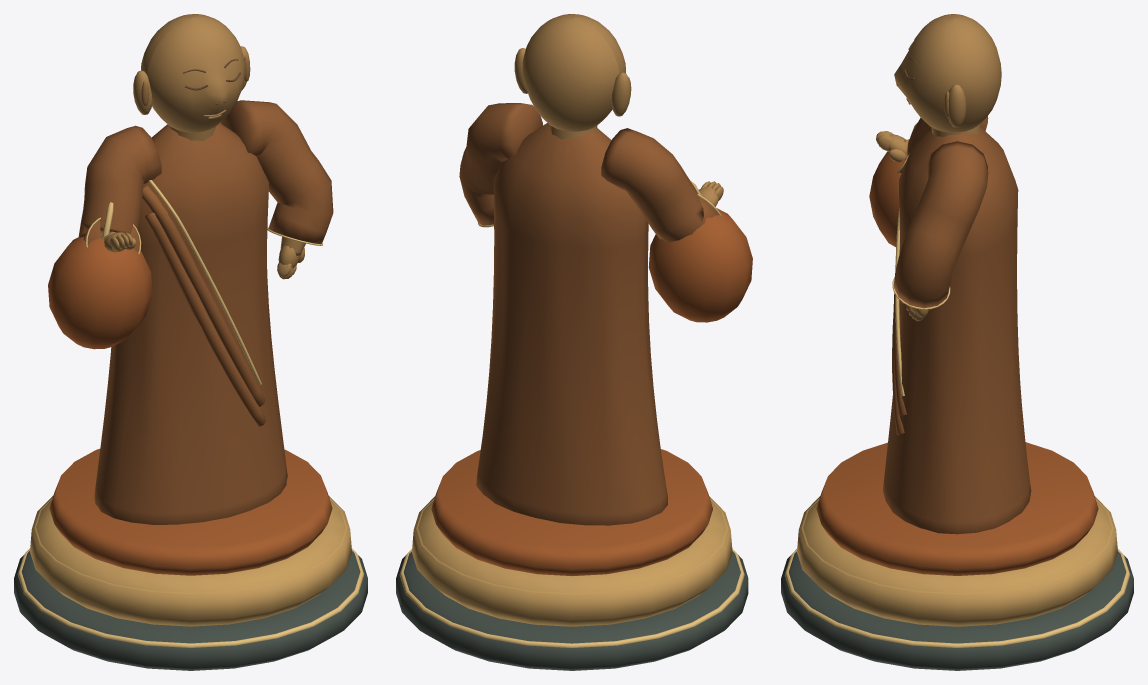
File: arhat_16_lod1.glb
3 views of the same model, side by side, from view 1: azimuth 30°, elevation 25°; view 2: azimuth 150°, elevation 25°; view 3: azimuth 270°, elevation 25° (orthographic).
Visible parts, largest first — view 1: arhat_16_ArhatDrapery, arhat_16_SaffronDrapery, arhat_16_AntiqueGold, arhat_16_CarvedPlinth, arhat_16_WarmBronze, arhat_16_RaisedGoldBorders; view 2: arhat_16_ArhatDrapery, arhat_16_SaffronDrapery, arhat_16_AntiqueGold, arhat_16_CarvedPlinth, arhat_16_WarmBronze, arhat_16_RaisedGoldBorders; view 3: arhat_16_ArhatDrapery, arhat_16_SaffronDrapery, arhat_16_AntiqueGold, arhat_16_CarvedPlinth, arhat_16_WarmBronze, arhat_16_RaisedGoldBorders.
Part boxes in pixels (left/top/right/bottom): arhat_16_ArhatDrapery: left=78, top=100, right=333, bottom=524; arhat_16_SaffronDrapery: left=48, top=236, right=332, bottom=575; arhat_16_AntiqueGold: left=30, top=496, right=351, bottom=626; arhat_16_CarvedPlinth: left=14, top=551, right=367, bottom=670; arhat_16_WarmBronze: left=103, top=14, right=305, bottom=279; arhat_16_RaisedGoldBorders: left=17, top=180, right=364, bottom=647; arhat_16_ArhatDrapery: left=459, top=103, right=718, bottom=525; arhat_16_SaffronDrapery: left=431, top=208, right=752, bottom=576; arhat_16_AntiqueGold: left=412, top=496, right=732, bottom=626; arhat_16_CarvedPlinth: left=396, top=551, right=748, bottom=670; arhat_16_WarmBronze: left=514, top=14, right=723, bottom=206; arhat_16_RaisedGoldBorders: left=399, top=180, right=744, bottom=647; arhat_16_ArhatDrapery: left=883, top=116, right=1031, bottom=534; arhat_16_SaffronDrapery: left=816, top=139, right=1098, bottom=575; arhat_16_AntiqueGold: left=797, top=496, right=1117, bottom=626; arhat_16_CarvedPlinth: left=781, top=551, right=1133, bottom=670; arhat_16_WarmBronze: left=876, top=14, right=1001, bottom=321; arhat_16_RaisedGoldBorders: left=785, top=123, right=1129, bottom=647.
Bounding box in the file's own units: 0.928 × 1.68 × 0.92.
